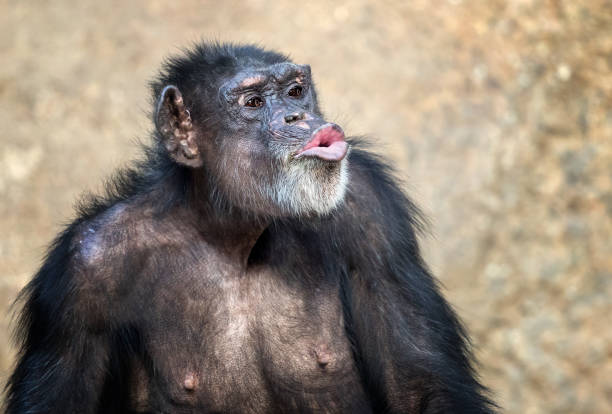chimpanzee: (122, 38, 366, 245)
